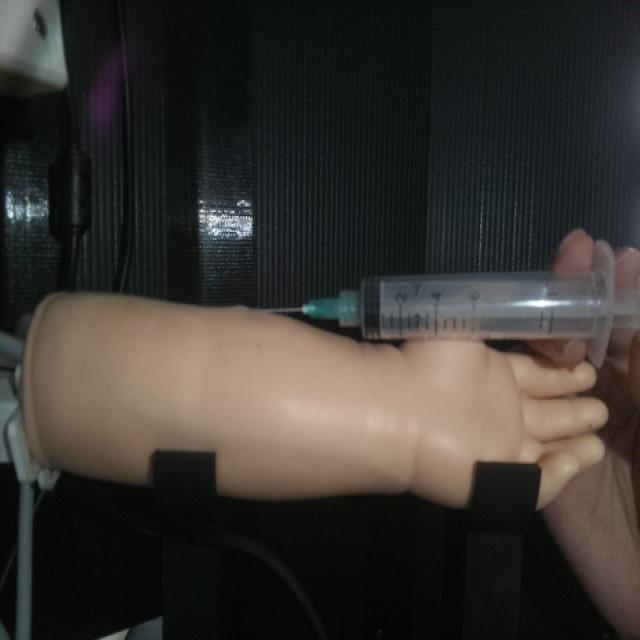Below 15 degrees: (260, 264, 637, 345)
